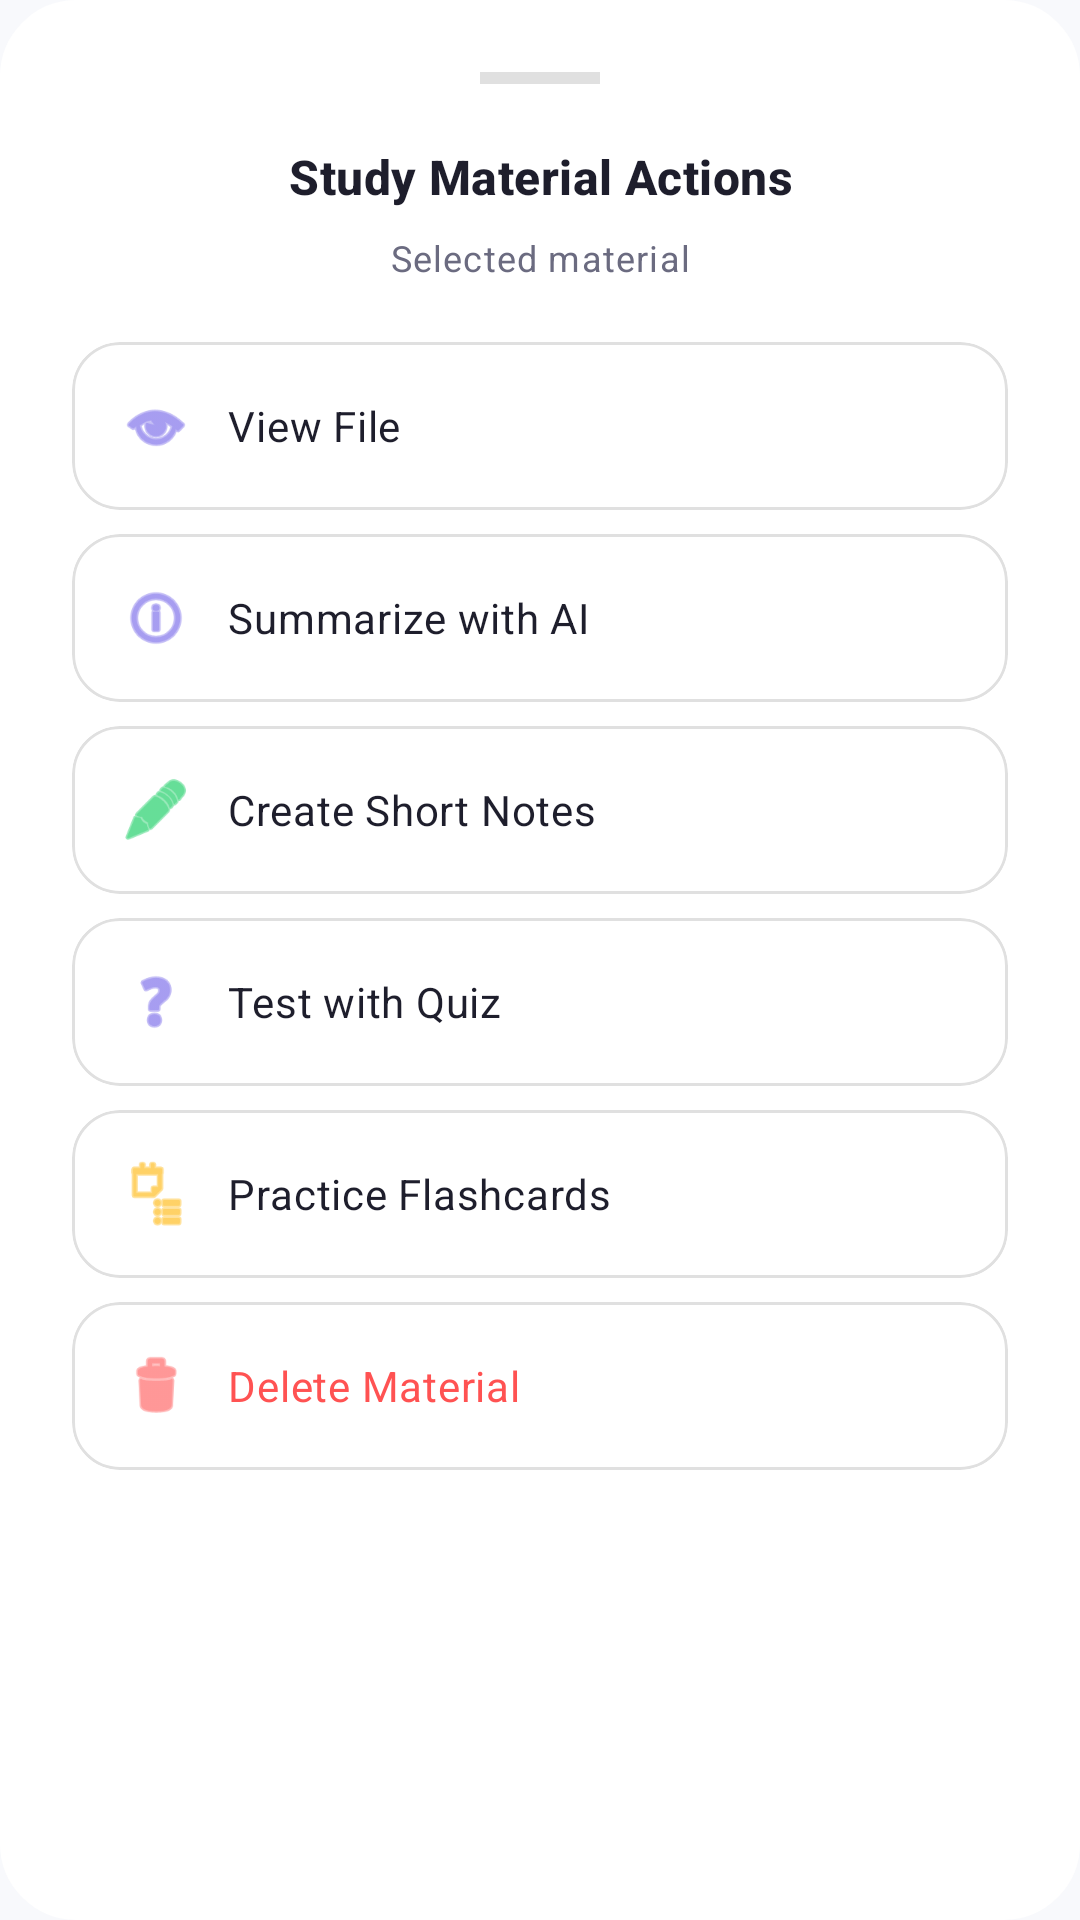

Icon bounding boxes for this 1080px×1920px phone screenshot, format (x1, y1, x2, y2):
agenda: (131, 1162, 182, 1226)
edit: (125, 779, 186, 840)
help: (140, 976, 172, 1028)
info details: (130, 592, 182, 644)
